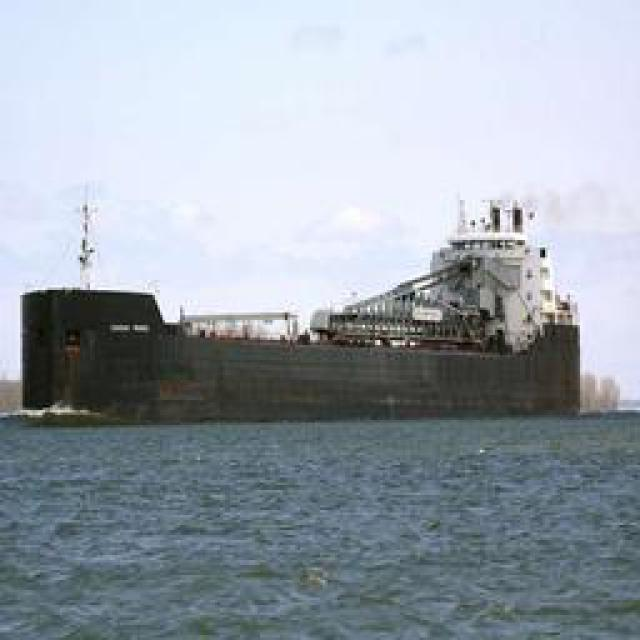Ship: (13, 186, 597, 441)
